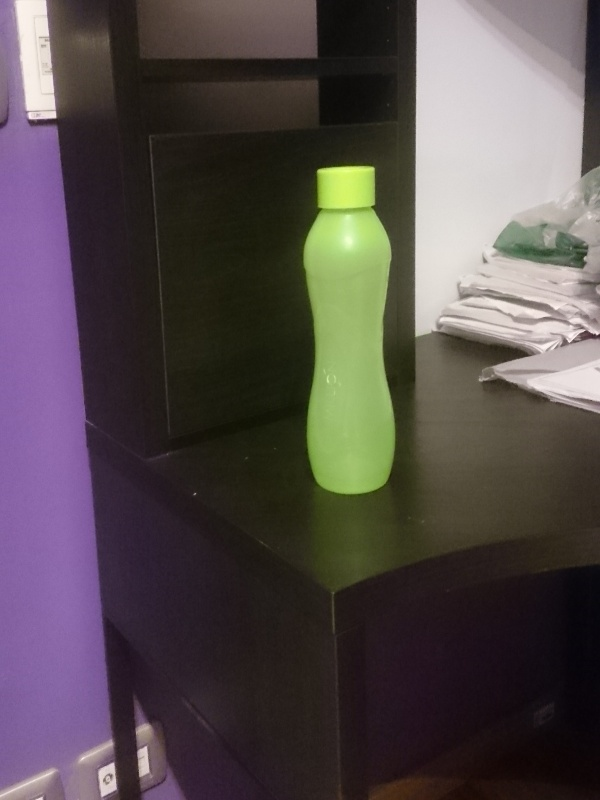my bottle: (302, 169, 395, 494)
